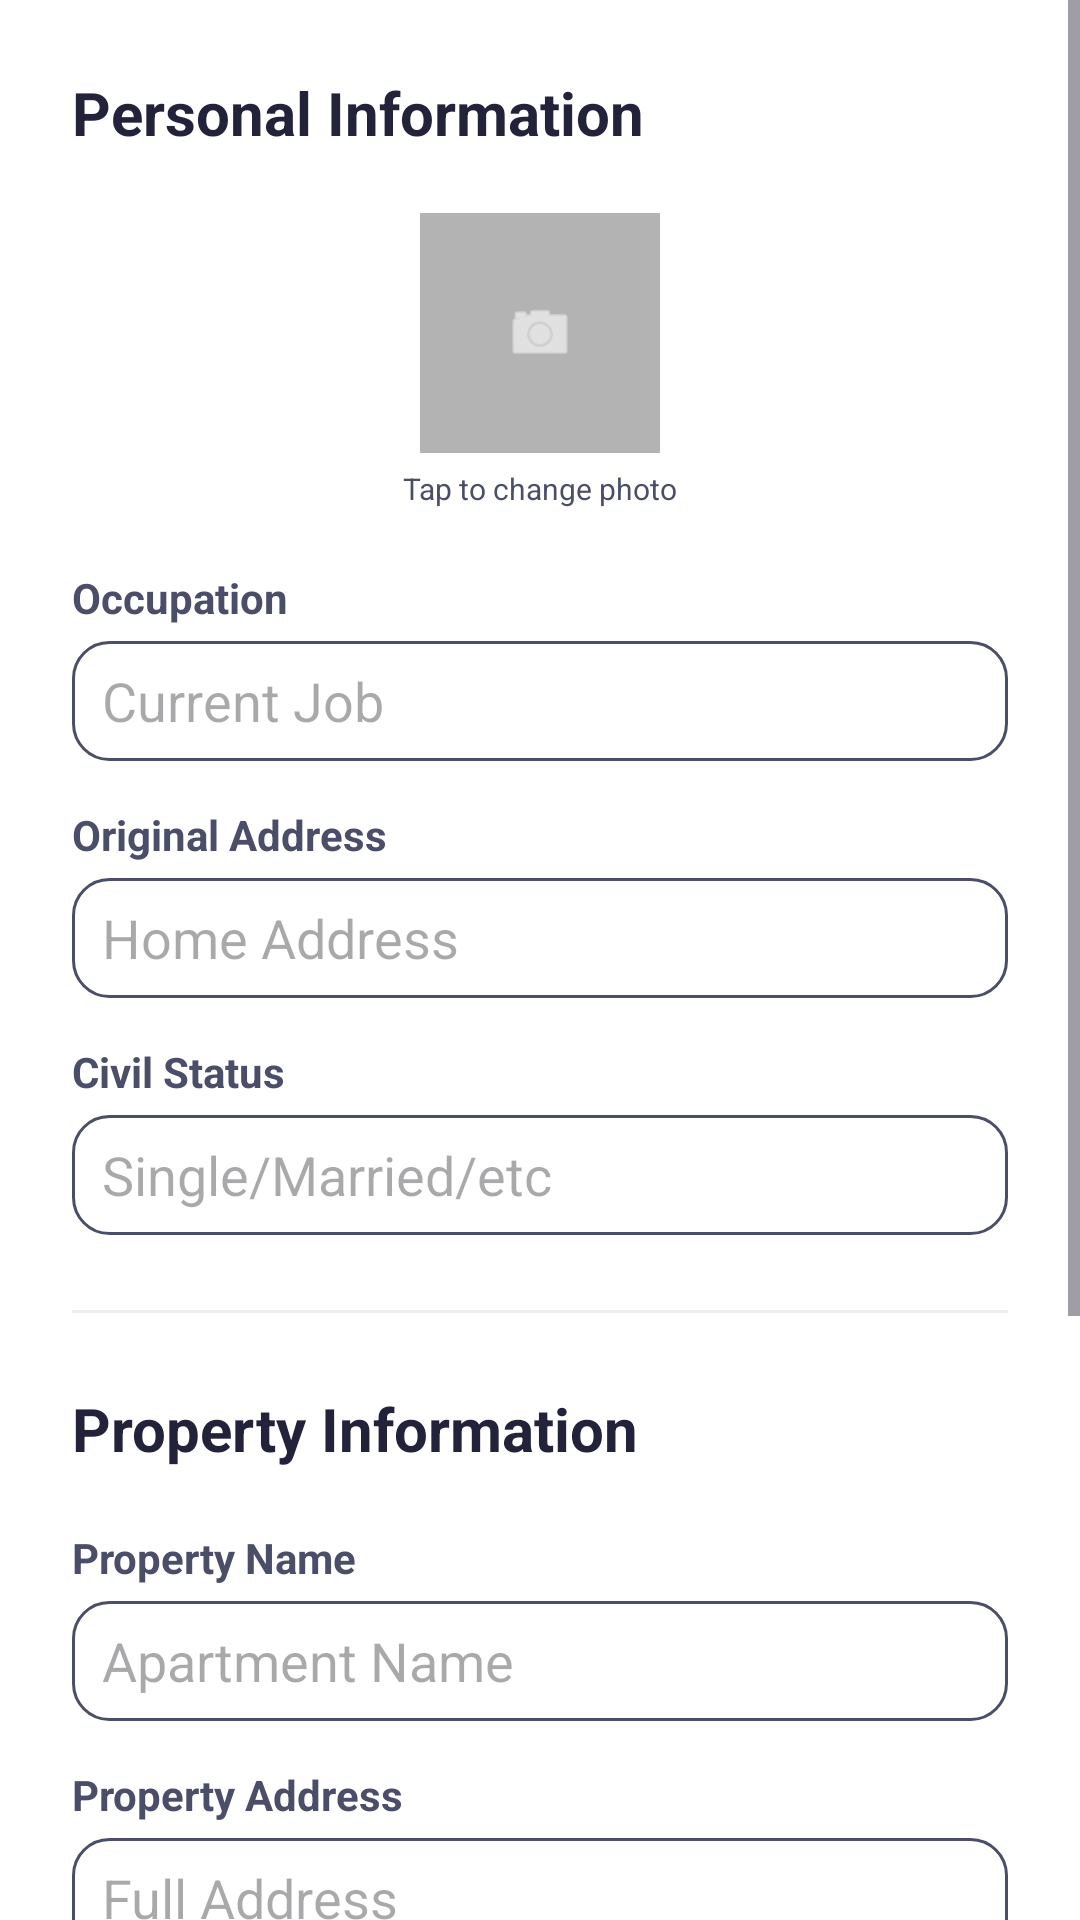

Icon bounding boxes for this 1080w x 1920h phone screenshot, format rect(x1, y1, x2, y2):
camera: rect(513, 310, 567, 353)
